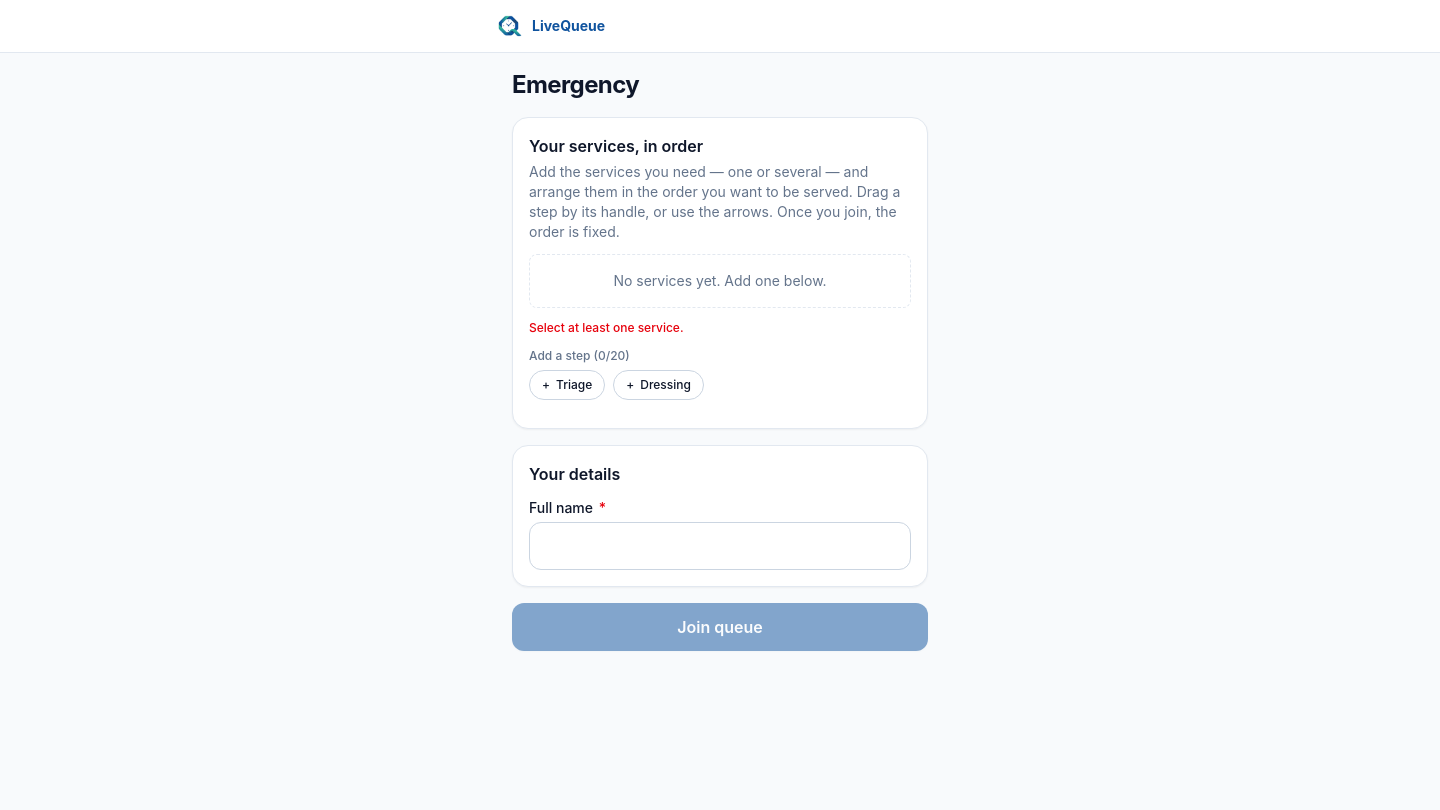
Test: queue → services → form → join › joins with this browser’s installation id and an idempotency key, then tracks the visit
Check: the heading "Emergency" is shown, box [512,70,639,99]
Check: the button "Join queue" is disabled, box [512,603,928,651]
Click the button with aria-label "Add Triage" at (567, 385), box [529,370,605,400]
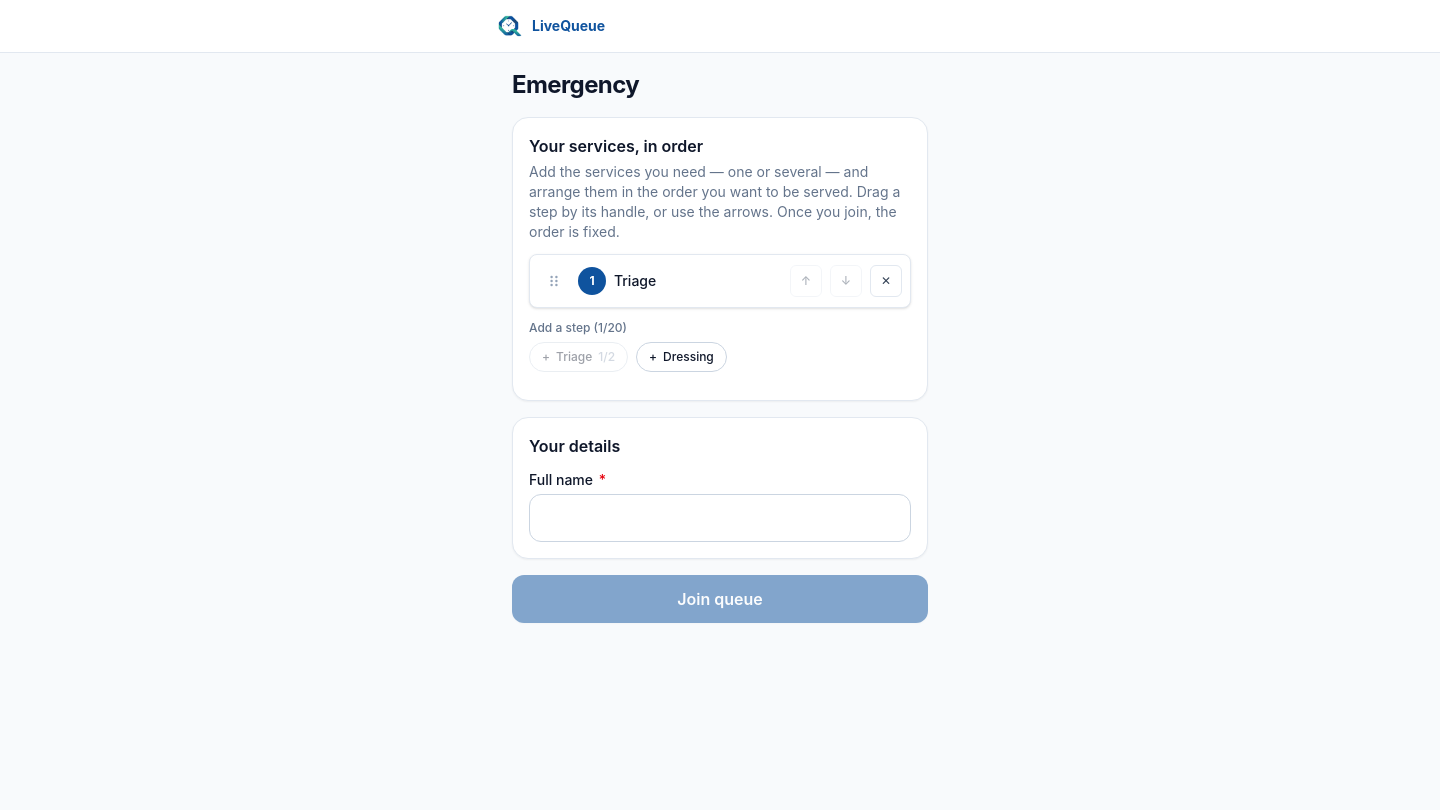
Check: the button "Join queue" is disabled, box [512,575,928,623]
Type "Sami" into the field labelled "Full name *" at (720, 518), box [529,494,911,542]
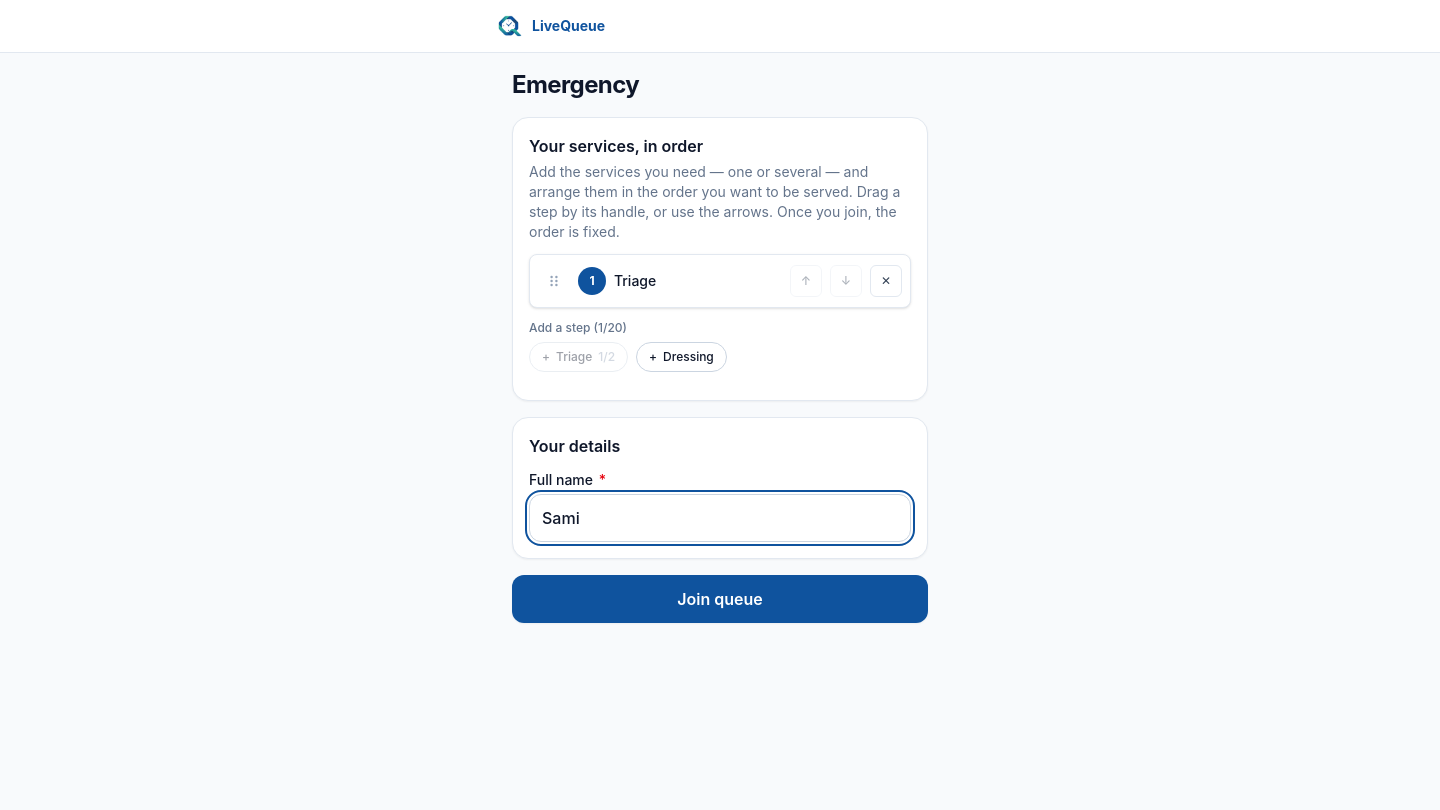
Click the button "Join queue" at (720, 599), box [512,575,928,623]
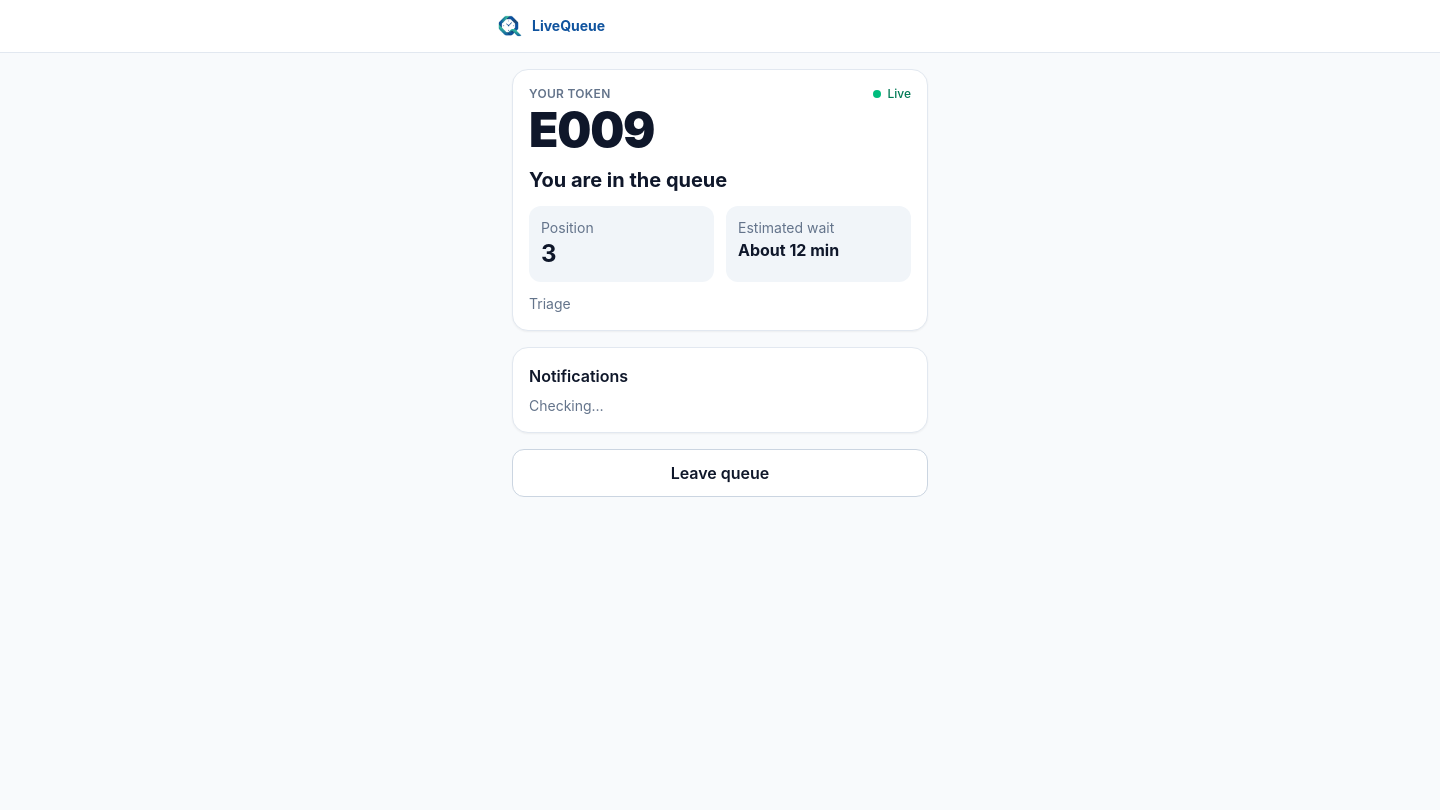
Check: the text with test id "serial" reads "E009", box [529,100,654,159]
